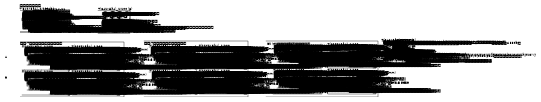corridor: (126, 83, 128, 88), (117, 83, 119, 88), (136, 83, 138, 88), (115, 83, 117, 88), (134, 83, 136, 88), (123, 83, 125, 88), (125, 83, 126, 88), (114, 83, 115, 88), (133, 83, 134, 88)
room: (216, 4, 236, 9), (284, 4, 304, 9), (41, 3, 61, 8), (109, 3, 129, 8), (451, 35, 471, 40), (451, 5, 471, 10), (216, 34, 236, 38), (284, 34, 304, 38), (41, 33, 61, 37), (109, 33, 129, 37), (382, 36, 402, 40), (382, 6, 402, 10), (46, 8, 52, 18), (27, 8, 33, 18), (379, 11, 385, 21), (98, 8, 104, 18), (79, 8, 85, 18), (425, 41, 431, 51), (425, 11, 431, 21), (226, 9, 232, 19), (207, 9, 213, 19), (46, 38, 52, 48), (92, 38, 98, 48), (76, 38, 82, 48), (379, 41, 385, 50), (254, 10, 260, 19), (225, 39, 231, 48), (256, 39, 262, 48), (273, 10, 279, 19), (52, 8, 57, 18), (57, 8, 62, 18), (33, 8, 38, 18), (374, 11, 379, 21), (369, 11, 374, 21), (405, 11, 410, 21), (400, 11, 405, 21), (385, 11, 390, 21), (395, 11, 400, 21), (390, 11, 395, 21), (104, 8, 109, 18), (85, 8, 90, 18), (74, 8, 79, 18), (441, 41, 446, 51), (436, 41, 441, 51), (446, 41, 451, 51), (431, 41, 436, 51), (441, 11, 446, 21), (436, 11, 441, 21), (446, 11, 451, 21), (431, 11, 436, 21), (221, 9, 226, 19), (232, 9, 237, 19), (202, 9, 207, 19), (27, 38, 32, 48), (36, 38, 41, 48), (41, 38, 46, 48), (52, 38, 57, 48), (57, 38, 62, 48), (98, 38, 103, 48), (87, 38, 92, 48), (82, 38, 87, 48), (374, 41, 379, 50), (369, 41, 374, 50), (405, 41, 410, 50), (400, 41, 405, 50), (385, 41, 390, 50), (395, 41, 400, 50), (390, 41, 395, 50), (260, 10, 265, 19), (249, 10, 254, 19), (205, 39, 210, 48), (210, 39, 215, 48), (215, 39, 220, 48), (220, 39, 225, 48), (231, 39, 236, 48), (277, 39, 282, 48), (272, 39, 277, 48), (267, 39, 272, 48), (262, 39, 267, 48), (251, 39, 256, 48), (279, 10, 284, 19), (46, 20, 52, 27), (27, 20, 33, 27), (379, 52, 385, 59), (379, 22, 385, 29), (98, 20, 104, 27), (79, 20, 85, 27), (254, 21, 260, 28), (425, 52, 431, 59), (425, 22, 431, 29), (225, 50, 231, 57), (256, 50, 262, 57), (226, 21, 232, 28), (207, 21, 213, 28), (273, 21, 279, 28), (46, 49, 52, 56), (92, 49, 98, 56), (76, 49, 82, 56), (192, 9, 196, 19), (17, 8, 21, 18), (38, 8, 42, 18), (42, 8, 46, 18), (359, 11, 363, 21), (115, 8, 119, 18), (94, 8, 98, 18), (90, 8, 94, 18), (457, 41, 461, 51), (457, 11, 461, 21), (213, 9, 217, 19), (217, 9, 221, 19), (17, 38, 21, 48), (32, 38, 36, 48), (114, 38, 118, 48), (118, 38, 122, 48), (107, 38, 111, 48), (103, 38, 107, 48), (359, 41, 363, 50), (290, 10, 294, 19), (269, 10, 273, 19), (265, 10, 269, 19), (187, 39, 191, 48), (191, 39, 195, 48), (201, 39, 205, 48), (296, 39, 300, 48), (292, 39, 296, 48), (282, 39, 286, 48), (52, 20, 57, 27), (57, 20, 62, 27), (33, 20, 38, 27), (374, 52, 379, 59), (369, 52, 374, 59), (405, 52, 410, 59), (400, 52, 405, 59), (385, 52, 390, 59), (395, 52, 400, 59), (390, 52, 395, 59), (374, 22, 379, 29), (369, 22, 374, 29), (405, 22, 410, 29), (400, 22, 405, 29), (385, 22, 390, 29), (395, 22, 400, 29), (390, 22, 395, 29), (104, 20, 109, 27), (85, 20, 90, 27), (74, 20, 79, 27), (260, 21, 265, 28), (249, 21, 254, 28), (441, 52, 446, 59), (436, 52, 441, 59), (446, 52, 451, 59), (431, 52, 436, 59), (441, 22, 446, 29), (436, 22, 441, 29), (446, 22, 451, 29), (431, 22, 436, 29), (205, 50, 210, 57), (210, 50, 215, 57), (215, 50, 220, 57), (220, 50, 225, 57), (231, 50, 236, 57), (277, 50, 282, 57), (272, 50, 277, 57), (267, 50, 272, 57), (262, 50, 267, 57), (251, 50, 256, 57), (221, 21, 226, 28), (232, 21, 237, 28), (202, 21, 207, 28), (279, 21, 284, 28), (27, 49, 32, 56), (36, 49, 41, 56), (41, 49, 46, 56), (52, 49, 57, 56), (57, 49, 62, 56), (98, 49, 103, 56), (87, 49, 92, 56), (82, 49, 87, 56), (196, 9, 199, 19), (189, 9, 192, 19), (185, 9, 188, 19), (199, 9, 202, 19), (21, 8, 24, 18), (14, 8, 17, 18), (10, 8, 13, 18), (24, 8, 27, 18), (363, 11, 366, 21), (356, 11, 359, 21), (353, 11, 356, 21), (366, 11, 369, 21), (112, 8, 115, 18), (119, 8, 122, 18), (123, 8, 126, 18), (109, 8, 112, 18), (454, 41, 457, 51), (461, 41, 464, 51), (465, 41, 468, 51), (451, 41, 454, 51), (454, 11, 457, 21), (461, 11, 464, 21), (465, 11, 468, 21), (451, 11, 454, 21), (21, 38, 24, 48), (14, 38, 17, 48), (10, 38, 13, 48), (24, 38, 27, 48), (122, 38, 125, 48), (125, 38, 128, 48), (111, 38, 114, 48), (192, 21, 196, 28), (17, 20, 21, 27), (38, 20, 42, 27), (42, 20, 46, 27), (359, 52, 363, 59), (359, 22, 363, 29), (115, 20, 119, 27), (94, 20, 98, 27), (90, 20, 94, 27), (290, 21, 294, 28), (269, 21, 273, 28), (265, 21, 269, 28), (457, 52, 461, 59), (457, 22, 461, 29), (187, 50, 191, 57), (191, 50, 195, 57), (201, 50, 205, 57), (296, 50, 300, 57), (292, 50, 296, 57), (282, 50, 286, 57), (213, 21, 217, 28), (217, 21, 221, 28), (17, 49, 21, 56), (32, 49, 36, 56), (114, 49, 118, 56), (118, 49, 122, 56), (107, 49, 111, 56), (103, 49, 107, 56), (363, 41, 366, 50), (356, 41, 359, 50), (353, 41, 356, 50), (366, 41, 369, 50), (287, 10, 290, 19), (294, 10, 297, 19), (298, 10, 301, 19), (284, 10, 287, 19), (195, 39, 198, 48), (184, 39, 187, 48), (198, 39, 201, 48), (289, 39, 292, 48), (300, 39, 303, 48), (286, 39, 289, 48), (199, 21, 202, 28), (196, 21, 199, 28), (189, 21, 192, 28), (185, 21, 188, 28), (182, 21, 185, 28), (24, 20, 27, 27), (21, 20, 24, 27), (14, 20, 17, 27), (10, 20, 13, 27), (7, 20, 10, 27), (366, 52, 369, 59), (363, 52, 366, 59), (356, 52, 359, 59), (353, 52, 356, 59), (350, 52, 353, 59), (366, 22, 369, 29), (363, 22, 366, 29), (356, 22, 359, 29), (353, 22, 356, 29), (350, 22, 353, 29), (109, 20, 112, 27), (112, 20, 115, 27), (119, 20, 122, 27), (123, 20, 126, 27), (126, 20, 129, 27), (284, 21, 287, 28), (287, 21, 290, 28), (294, 21, 297, 28), (298, 21, 301, 28), (301, 21, 304, 28), (451, 52, 454, 59), (454, 52, 457, 59), (461, 52, 464, 59), (465, 52, 468, 59), (468, 52, 471, 59), (451, 22, 454, 29), (454, 22, 457, 29), (461, 22, 464, 29), (465, 22, 468, 29), (468, 22, 471, 29), (198, 50, 201, 57), (195, 50, 198, 57), (184, 50, 187, 57), (181, 50, 184, 57), (286, 50, 289, 57), (289, 50, 292, 57), (300, 50, 303, 57), (303, 50, 306, 57), (24, 49, 27, 56), (21, 49, 24, 56), (14, 49, 17, 56), (10, 49, 13, 56), (7, 49, 10, 56), (111, 49, 114, 56), (122, 49, 125, 56), (125, 49, 128, 56), (128, 49, 131, 56), (28, 13, 32, 18), (380, 41, 384, 46), (380, 11, 384, 16), (80, 13, 84, 18), (255, 10, 259, 15), (226, 39, 230, 44), (257, 39, 261, 44), (227, 14, 231, 19), (28, 9, 32, 13), (380, 46, 384, 50), (380, 16, 384, 20), (113, 91, 117, 95), (132, 91, 136, 95), (80, 9, 84, 13), (255, 15, 259, 19), (226, 44, 230, 48), (257, 44, 261, 48), (227, 10, 231, 14), (47, 13, 50, 18), (53, 13, 56, 18), (58, 13, 61, 18), (34, 13, 37, 18), (375, 41, 378, 46), (375, 11, 378, 16), (105, 13, 108, 18), (99, 13, 102, 18), (86, 13, 89, 18), (75, 13, 78, 18), (261, 10, 264, 15), (250, 10, 253, 15), (442, 41, 445, 46), (437, 41, 440, 46), (442, 11, 445, 16), (437, 11, 440, 16), (211, 39, 214, 44), (216, 39, 219, 44), (221, 39, 224, 44), (232, 39, 235, 44), (273, 39, 276, 44), (268, 39, 271, 44), (263, 39, 266, 44), (252, 39, 255, 44), (222, 14, 225, 19), (233, 14, 236, 19), (209, 14, 212, 19), (203, 14, 206, 19), (280, 10, 283, 15), (274, 10, 277, 15), (37, 38, 40, 43), (42, 38, 45, 43), (47, 38, 50, 43), (53, 38, 56, 43), (58, 38, 61, 43), (99, 38, 102, 43), (93, 38, 96, 43), (88, 38, 91, 43), (83, 38, 86, 43), (78, 38, 81, 43), (47, 9, 50, 13), (53, 9, 56, 13), (58, 9, 61, 13), (34, 9, 37, 13), (375, 46, 378, 50), (375, 16, 378, 20), (123, 91, 126, 95), (105, 9, 108, 13), (99, 9, 102, 13), (86, 9, 89, 13), (75, 9, 78, 13), (261, 15, 264, 19), (250, 15, 253, 19), (442, 46, 445, 50), (437, 46, 440, 50), (442, 16, 445, 20), (437, 16, 440, 20), (211, 44, 214, 48), (216, 44, 219, 48), (221, 44, 224, 48), (232, 44, 235, 48), (273, 44, 276, 48), (268, 44, 271, 48), (263, 44, 266, 48), (252, 44, 255, 48), (222, 10, 225, 14), (233, 10, 236, 14), (209, 10, 212, 14), (203, 10, 206, 14), (280, 15, 283, 19), (274, 15, 277, 19), (37, 43, 40, 47), (42, 43, 45, 47), (47, 43, 50, 47), (53, 43, 56, 47), (58, 43, 61, 47), (99, 43, 102, 47), (93, 43, 96, 47), (88, 43, 91, 47), (83, 43, 86, 47), (78, 43, 81, 47), (115, 83, 117, 88), (117, 83, 119, 88), (123, 83, 125, 88), (126, 83, 128, 88), (134, 83, 136, 88), (136, 83, 138, 88), (117, 91, 119, 95), (126, 91, 128, 95), (136, 91, 138, 95), (426, 48, 430, 50), (426, 45, 430, 47), (426, 43, 430, 45), (426, 41, 430, 43), (426, 18, 430, 20), (426, 15, 430, 17), (426, 13, 430, 15), (426, 11, 430, 13), (133, 34, 137, 36), (65, 34, 69, 36), (370, 48, 373, 50), (370, 45, 373, 47), (370, 43, 373, 45), (370, 41, 373, 43), (406, 48, 409, 50), (406, 45, 409, 47), (406, 43, 409, 45), (406, 41, 409, 43), (401, 48, 404, 50), (401, 45, 404, 47), (401, 43, 404, 45), (401, 41, 404, 43), (386, 48, 389, 50), (386, 45, 389, 47), (386, 43, 389, 45), (386, 41, 389, 43), (396, 45, 399, 47), (396, 41, 399, 43), (391, 41, 394, 43), (391, 43, 394, 45), (370, 18, 373, 20), (370, 15, 373, 17), (370, 13, 373, 15), (370, 11, 373, 13), (406, 18, 409, 20), (406, 15, 409, 17), (406, 13, 409, 15), (406, 11, 409, 13), (401, 18, 404, 20), (401, 15, 404, 17), (401, 13, 404, 15), (401, 11, 404, 13), (386, 18, 389, 20), (386, 15, 389, 17), (386, 13, 389, 15), (386, 11, 389, 13), (396, 15, 399, 17), (396, 11, 399, 13), (391, 11, 394, 13), (391, 13, 394, 15), (432, 48, 435, 50), (432, 45, 435, 47), (432, 43, 435, 45), (432, 41, 435, 43), (432, 18, 435, 20), (432, 15, 435, 17), (432, 13, 435, 15), (432, 11, 435, 13), (114, 83, 115, 88), (125, 83, 126, 88), (133, 83, 134, 88), (39, 79, 44, 80), (147, 78, 152, 79), (192, 20, 196, 21), (17, 19, 21, 20), (38, 19, 42, 20), (42, 19, 46, 20), (117, 96, 119, 98), (115, 96, 117, 98), (113, 96, 115, 98), (126, 96, 128, 98), (123, 96, 125, 98), (136, 96, 138, 98), (134, 96, 136, 98), (132, 96, 134, 98), (115, 19, 119, 20), (94, 19, 98, 20), (90, 19, 94, 20), (426, 47, 430, 48), (426, 17, 430, 18), (213, 20, 217, 21), (217, 20, 221, 21), (536, 42, 540, 43), (484, 37, 488, 38), (484, 7, 488, 8), (410, 7, 414, 8), (410, 37, 414, 38), (308, 35, 312, 36), (308, 6, 312, 7), (240, 6, 244, 7), (240, 35, 244, 36), (133, 5, 137, 6), (65, 5, 69, 6), (182, 20, 185, 21), (185, 20, 188, 21), (189, 20, 192, 21), (196, 20, 199, 21), (199, 20, 202, 21), (7, 19, 10, 20), (10, 19, 13, 20), (14, 19, 17, 20), (21, 19, 24, 20), (24, 19, 27, 20), (375, 45, 378, 46), (375, 44, 378, 45), (375, 43, 378, 44), (375, 42, 378, 43), (375, 41, 378, 42), (370, 47, 373, 48), (406, 47, 409, 48), (401, 47, 404, 48), (386, 47, 389, 48), (396, 49, 399, 50), (396, 48, 399, 49), (396, 47, 399, 48), (396, 43, 399, 44), (396, 44, 399, 45), (396, 45, 399, 46), (396, 46, 399, 47), (391, 49, 394, 50), (391, 48, 394, 49), (391, 47, 394, 48), (391, 46, 394, 47), (391, 45, 394, 46), (375, 15, 378, 16), (375, 14, 378, 15), (375, 13, 378, 14), (375, 12, 378, 13), (375, 11, 378, 12), (370, 17, 373, 18), (406, 17, 409, 18), (401, 17, 404, 18), (386, 17, 389, 18), (396, 19, 399, 20), (396, 18, 399, 19), (396, 17, 399, 18), (396, 13, 399, 14), (396, 14, 399, 15), (396, 15, 399, 16), (396, 16, 399, 17), (391, 19, 394, 20), (391, 18, 394, 19), (391, 17, 394, 18), (391, 16, 394, 17), (391, 15, 394, 16), (503, 51, 506, 52), (126, 19, 129, 20), (123, 19, 126, 20), (119, 19, 122, 20), (112, 19, 115, 20), (109, 19, 112, 20), (432, 47, 435, 48), (432, 17, 435, 18), (506, 51, 508, 52), (125, 96, 126, 98), (21, 88, 23, 89), (500, 48, 501, 49), (18, 98, 19, 99), (36, 99, 37, 100), (197, 12, 198, 12), (22, 11, 24, 11), (350, 52, 353, 52), (353, 52, 356, 52), (356, 52, 359, 52), (363, 52, 366, 52), (366, 52, 369, 52), (364, 43, 366, 43), (359, 52, 363, 52), (396, 47, 399, 47), (391, 47, 394, 47), (350, 22, 353, 22), (353, 22, 356, 22), (356, 22, 359, 22), (363, 22, 366, 22), (366, 22, 369, 22), (364, 13, 366, 13), (359, 22, 363, 22), (396, 17, 399, 17), (391, 17, 394, 17), (522, 58, 523, 58), (500, 48, 500, 49), (501, 48, 501, 49), (506, 52, 508, 52), (503, 52, 506, 52), (113, 11, 114, 11), (301, 21, 304, 21), (298, 21, 301, 21), (294, 21, 297, 21), (287, 21, 290, 21), (284, 21, 287, 21), (288, 12, 289, 12), (290, 21, 294, 21), (269, 21, 273, 21), (265, 21, 269, 21), (468, 52, 471, 52), (465, 52, 468, 52), (461, 52, 464, 52), (454, 52, 457, 52), (451, 52, 454, 52), (454, 43, 456, 43), (457, 52, 461, 52), (446, 52, 451, 52), (468, 22, 471, 22), (465, 22, 468, 22), (461, 22, 464, 22), (454, 22, 457, 22), (451, 22, 454, 22), (454, 13, 456, 13), (457, 22, 461, 22), (446, 22, 451, 22), (181, 50, 184, 50), (184, 50, 187, 50), (187, 50, 191, 50), (195, 50, 198, 50), (198, 50, 201, 50), (196, 41, 197, 41), (191, 50, 195, 50), (201, 50, 205, 50), (205, 50, 210, 50), (303, 50, 306, 50), (300, 50, 303, 50), (296, 50, 300, 50), (289, 50, 292, 50), (286, 50, 289, 50), (290, 41, 291, 41), (292, 50, 296, 50), (282, 50, 286, 50), (277, 50, 282, 50), (7, 49, 10, 49), (10, 49, 13, 49), (14, 49, 17, 49), (21, 49, 24, 49), (24, 49, 27, 49), (22, 40, 24, 40), (17, 49, 21, 49), (27, 49, 32, 49), (32, 49, 36, 49), (128, 49, 131, 49), (125, 49, 128, 49), (122, 49, 125, 49), (114, 49, 118, 49), (111, 49, 114, 49), (115, 40, 116, 40), (118, 49, 122, 49), (107, 49, 111, 49), (103, 49, 107, 49)
wall: (46, 19, 52, 20), (27, 19, 33, 20), (98, 19, 104, 20), (79, 19, 85, 20), (226, 20, 232, 21), (207, 20, 213, 21), (52, 19, 57, 20), (57, 19, 62, 20), (33, 19, 38, 20), (104, 19, 109, 20), (85, 19, 90, 20), (74, 19, 79, 20), (221, 20, 226, 21), (232, 20, 237, 21), (202, 20, 207, 21), (510, 49, 513, 50), (503, 49, 506, 50), (537, 39, 540, 40), (485, 34, 488, 35), (485, 4, 488, 5), (411, 4, 414, 5), (411, 34, 414, 35), (309, 3, 312, 4), (241, 3, 244, 4), (508, 49, 510, 50), (506, 49, 508, 50), (501, 49, 503, 50), (521, 44, 523, 45), (519, 44, 521, 45), (524, 44, 526, 45), (522, 64, 523, 65), (517, 64, 518, 65), (500, 49, 501, 50), (512, 48, 513, 49), (511, 48, 512, 49), (510, 48, 511, 49), (508, 48, 509, 49), (509, 48, 510, 49), (506, 48, 507, 49), (507, 48, 508, 49), (503, 48, 504, 49), (505, 48, 506, 49), (504, 48, 505, 49), (501, 48, 502, 49), (502, 48, 503, 49), (500, 45, 501, 46), (503, 45, 504, 46), (502, 45, 503, 46), (501, 45, 502, 46), (504, 45, 505, 46), (505, 45, 506, 46), (509, 45, 510, 46), (507, 45, 508, 46), (508, 45, 509, 46), (512, 45, 513, 46), (510, 45, 511, 46), (511, 45, 512, 46), (523, 44, 524, 45), (36, 101, 37, 101), (379, 52, 385, 52), (374, 52, 379, 52), (369, 52, 374, 52), (405, 52, 410, 52), (400, 52, 405, 52), (385, 52, 390, 52), (395, 52, 400, 52), (390, 52, 395, 52), (379, 22, 385, 22), (374, 22, 379, 22), (369, 22, 374, 22), (405, 22, 410, 22), (400, 22, 405, 22), (385, 22, 390, 22), (395, 22, 400, 22), (390, 22, 395, 22), (522, 57, 524, 57), (513, 48, 513, 49), (509, 48, 509, 49), (508, 48, 508, 49), (507, 48, 507, 49), (505, 48, 505, 49), (503, 48, 503, 49), (502, 48, 502, 49), (500, 44, 501, 44), (500, 45, 501, 45), (500, 45, 500, 46), (501, 44, 504, 44), (503, 45, 503, 46), (501, 45, 501, 46), (502, 45, 502, 46), (504, 44, 506, 44), (506, 45, 506, 46), (505, 45, 505, 46), (507, 44, 510, 44), (509, 45, 509, 46), (508, 45, 508, 46), (510, 44, 513, 44), (513, 45, 513, 46), (512, 45, 512, 46), (510, 45, 510, 46), (519, 49, 519, 49), (519, 48, 519, 48), (519, 49, 521, 49), (519, 48, 521, 48), (521, 49, 522, 49), (524, 49, 524, 49), (524, 48, 524, 48), (525, 49, 525, 49), (525, 48, 525, 48), (260, 21, 265, 21), (254, 21, 260, 21), (249, 21, 254, 21), (441, 52, 446, 52), (436, 52, 441, 52), (431, 52, 436, 52), (425, 52, 431, 52), (441, 22, 446, 22), (436, 22, 441, 22), (431, 22, 436, 22), (425, 22, 431, 22), (3, 90, 5, 90), (210, 50, 215, 50), (215, 50, 220, 50), (220, 50, 225, 50), (225, 50, 231, 50), (231, 50, 236, 50), (272, 50, 277, 50), (267, 50, 272, 50), (262, 50, 267, 50), (256, 50, 262, 50), (251, 50, 256, 50), (279, 21, 284, 21), (273, 21, 279, 21), (36, 49, 41, 49), (41, 49, 46, 49), (46, 49, 52, 49), (52, 49, 57, 49), (57, 49, 62, 49), (98, 49, 103, 49), (92, 49, 98, 49), (87, 49, 92, 49), (82, 49, 87, 49), (76, 49, 82, 49), (40, 76, 44, 76), (148, 76, 152, 76), (309, 33, 312, 33), (241, 33, 244, 33), (134, 32, 137, 32), (134, 3, 137, 3), (66, 3, 69, 3), (66, 32, 69, 32)
window: (388, 11, 390, 12), (399, 41, 400, 42), (373, 11, 374, 12), (409, 11, 410, 12), (404, 11, 405, 12), (399, 11, 400, 12), (519, 56, 520, 57), (517, 56, 518, 57), (384, 42, 385, 42), (378, 42, 379, 42), (373, 41, 374, 41), (409, 41, 410, 41), (404, 41, 405, 41), (388, 41, 390, 41), (384, 12, 385, 12), (378, 12, 379, 12)
